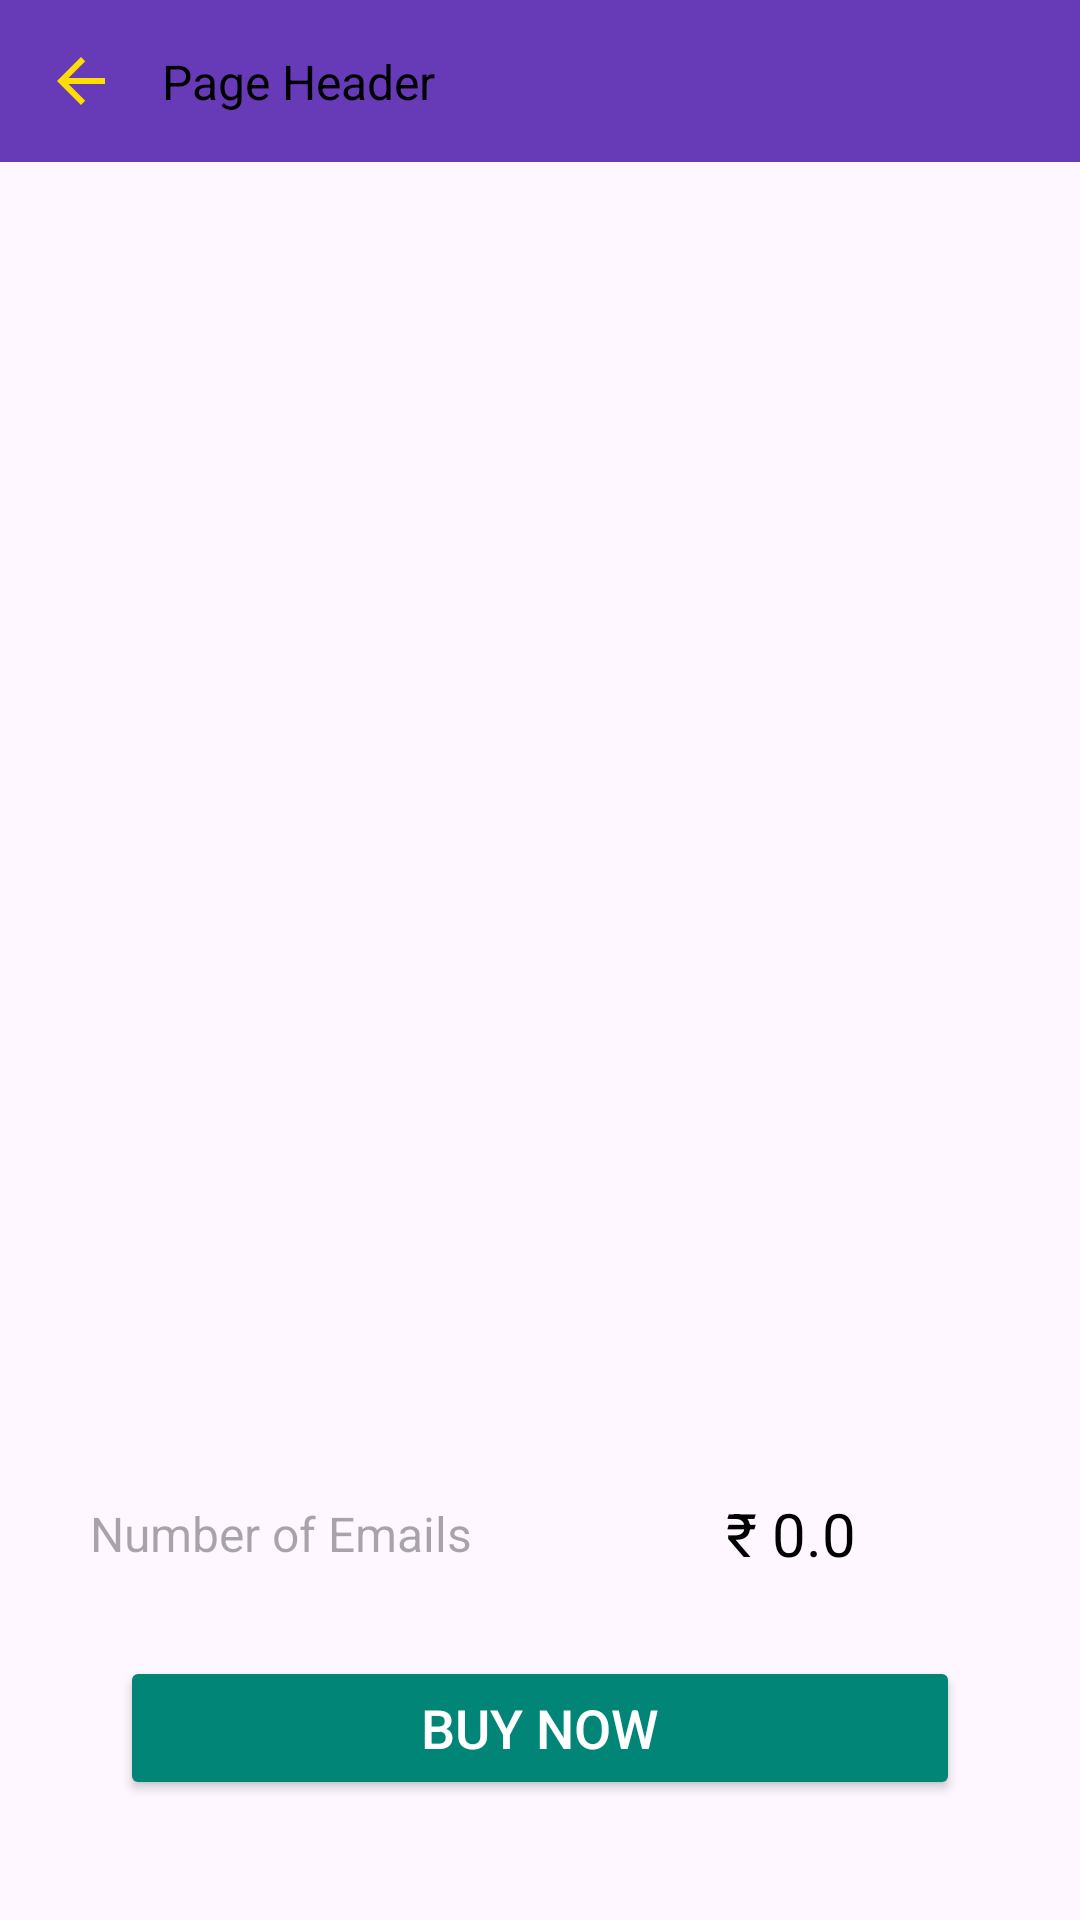

Icon bounding boxes for this 1080 x 1920 phone screenshot, format (x1, y1, x2, y2):
back arrow: (57, 57, 105, 105)
